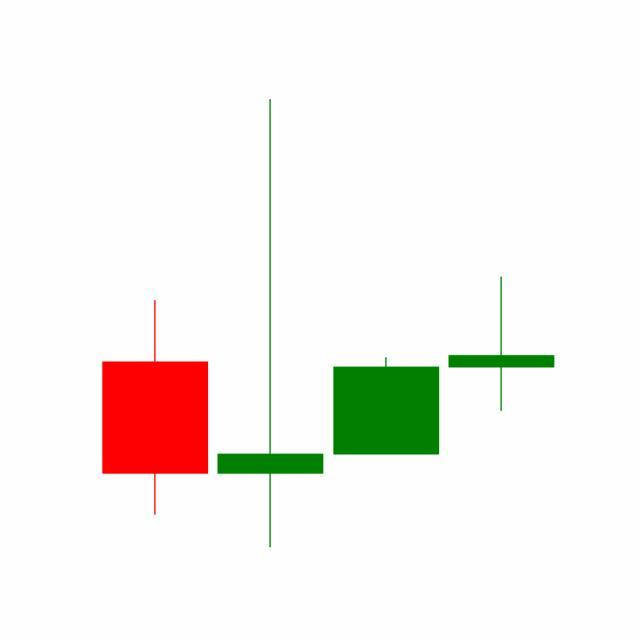Spinning Top: (444, 276, 560, 414)
